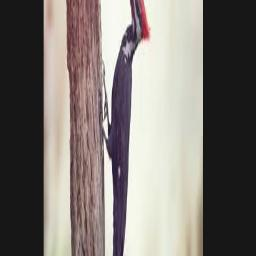Woodpecker: (102, 0, 150, 256)
